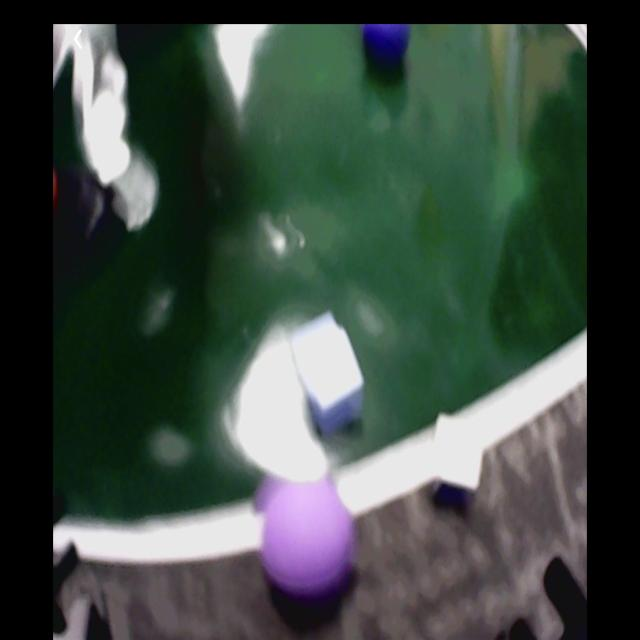ball: (259, 474, 359, 594), (362, 24, 412, 67)
